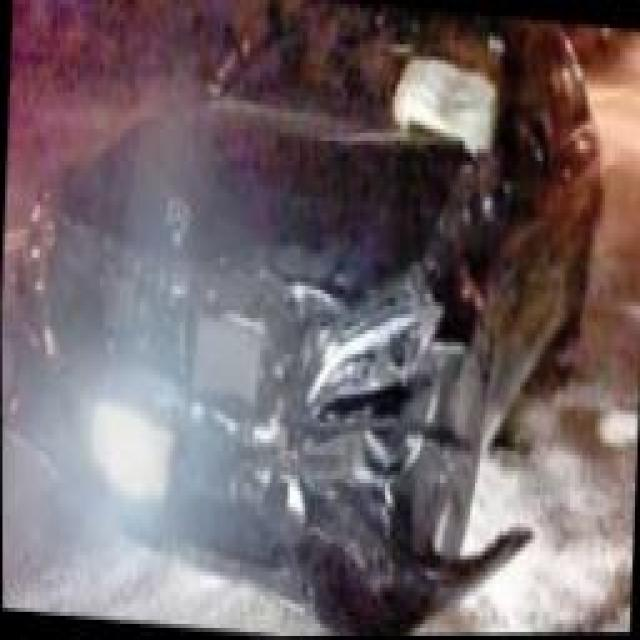Bonnet: (39, 72, 469, 303)
Bumper: (1, 298, 526, 637)
Light: (298, 283, 452, 412)
